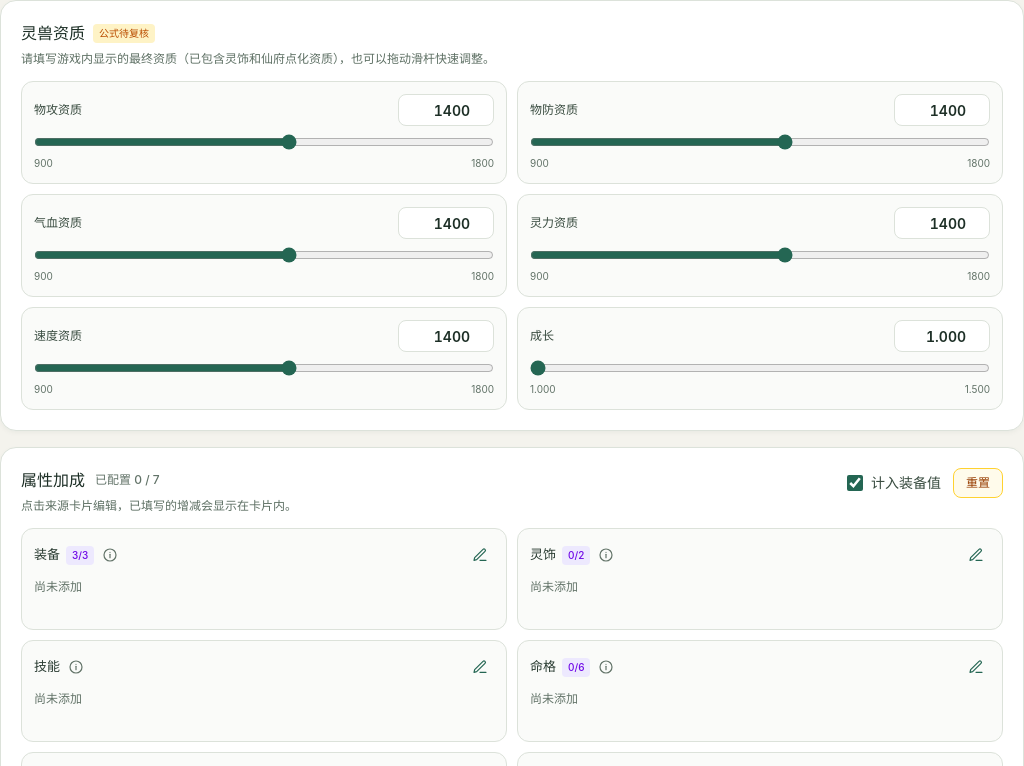
Test case: SpiritBeastAttributeCalculator › 应该同时支持滑杆和数字输入调整资质与成长
Replace the text in the number field named "物攻资质数值" with "1800": coordinates (446, 110) [398,94,494,126]
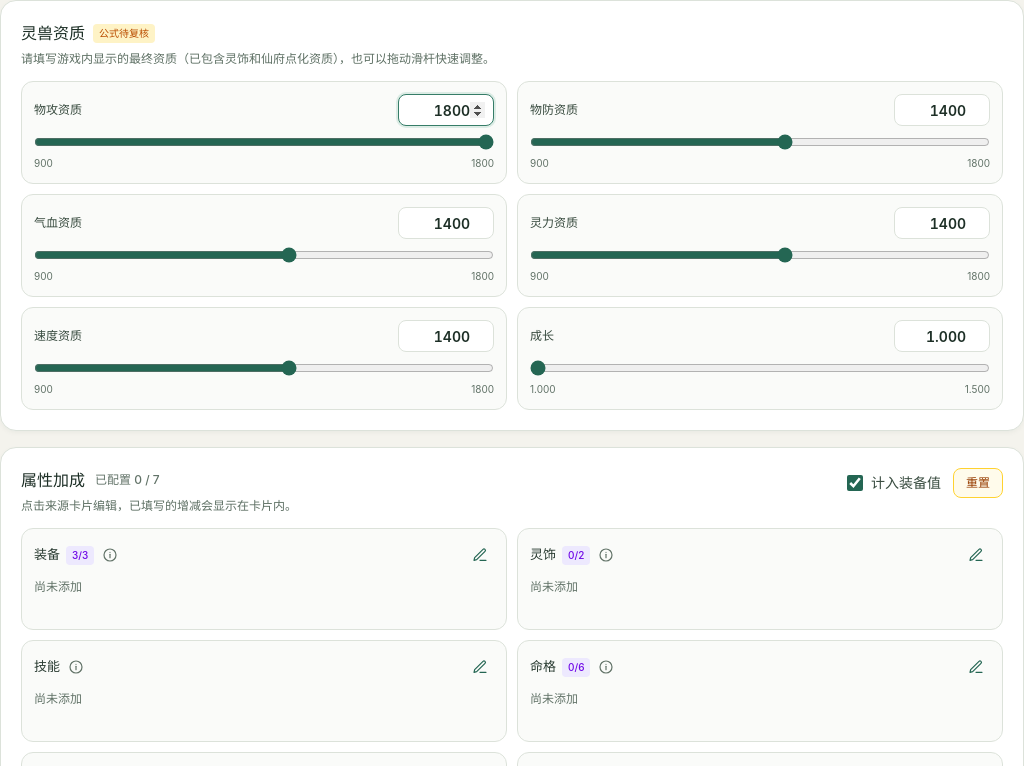
Set the slider named "成长滑杆" to "1.5": coordinates (982, 368) [530,364,990,372]
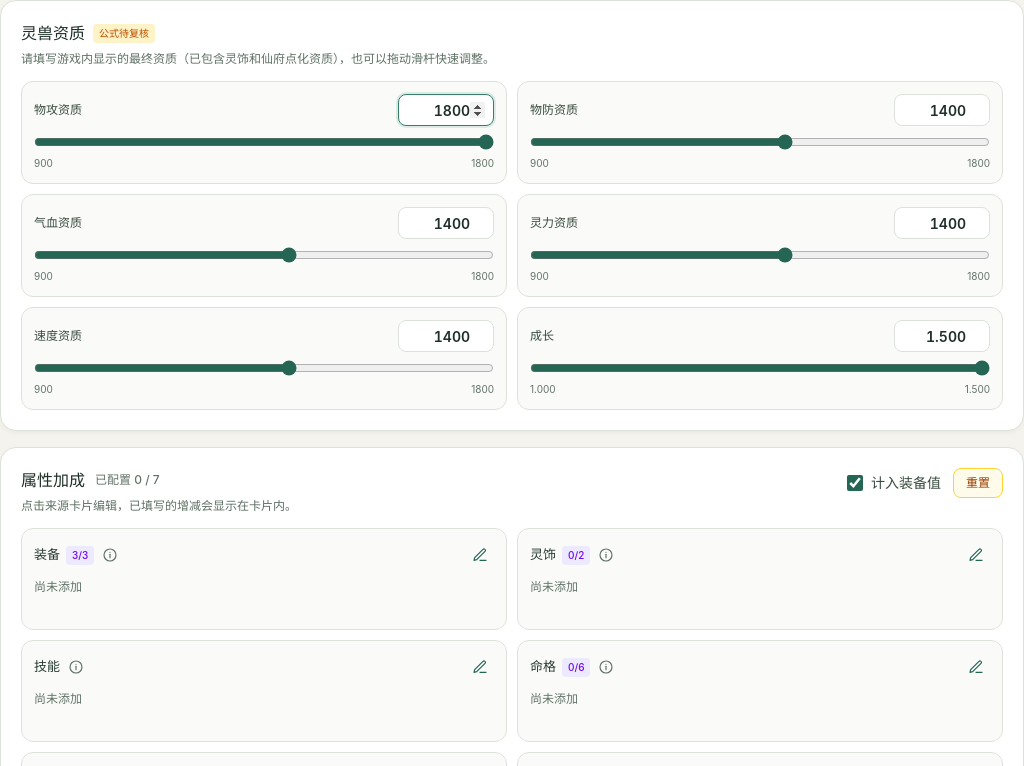
Result: the number field named "成长数值" holds "1.5" at [894,320,990,352]
